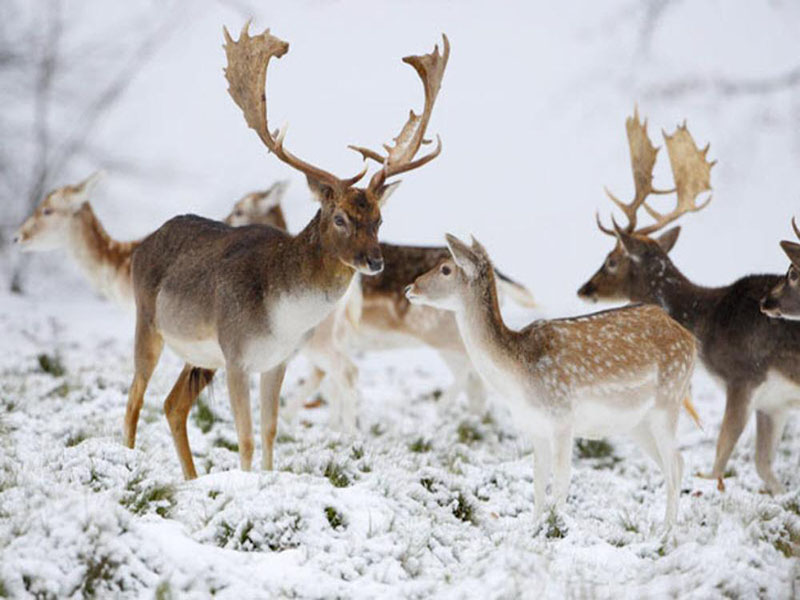cervo: (114, 25, 403, 479), (405, 233, 704, 544), (554, 100, 734, 305), (19, 165, 109, 280), (751, 214, 800, 325), (213, 180, 296, 234)
